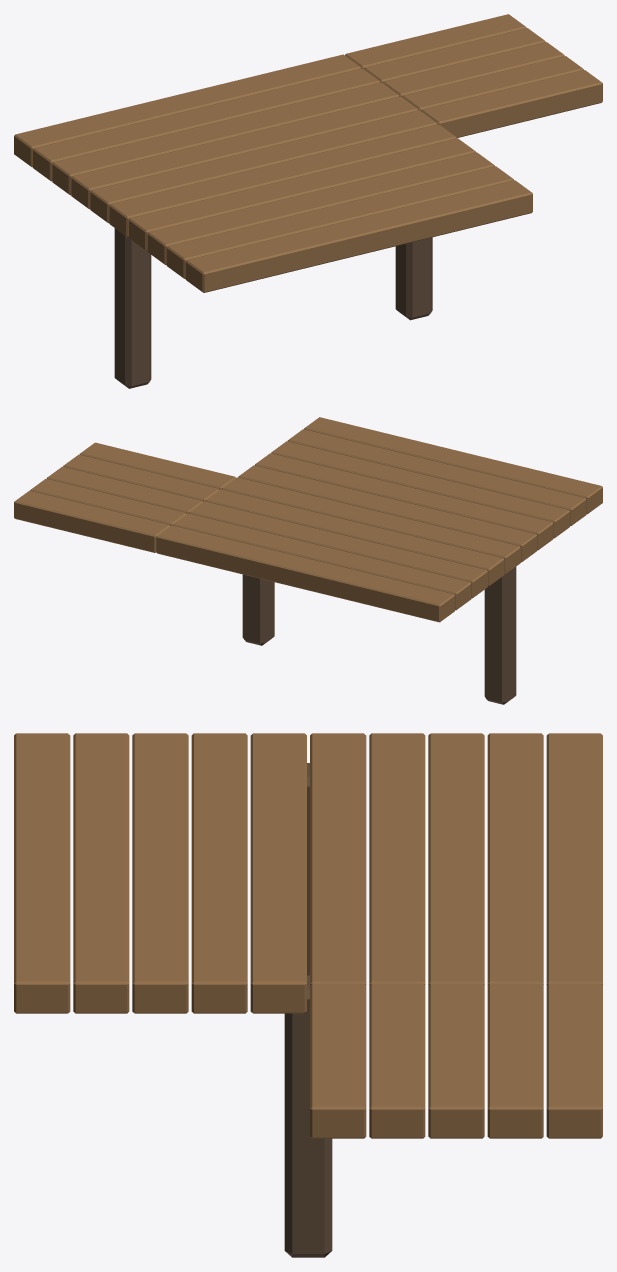
Rendered from harbor-pier-corner.lod0.glb.
The picture shows the model from 3 angles, top to bottom: view 1: azimuth 30°, elevation 25°; view 2: azimuth 150°, elevation 25°; view 3: azimuth 270°, elevation 25°; orthographic projection. The views are drawn at different scales.
Parts seen in each view (by area): view 1: harbor-pier-corner__body; view 2: harbor-pier-corner__body; view 3: harbor-pier-corner__body.
Part boxes in pixels (box(x1,y1,x2,y2)): harbor-pier-corner__body: box(14, 14, 602, 388); harbor-pier-corner__body: box(14, 417, 602, 704); harbor-pier-corner__body: box(14, 733, 602, 1257).
Size of the model in its own units: 3 by 1.07 by 1.99.
